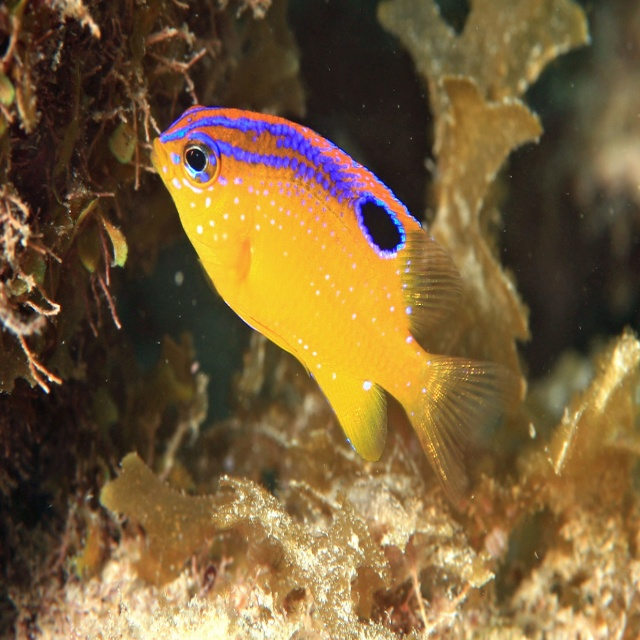Fish: (150, 107, 513, 513)
